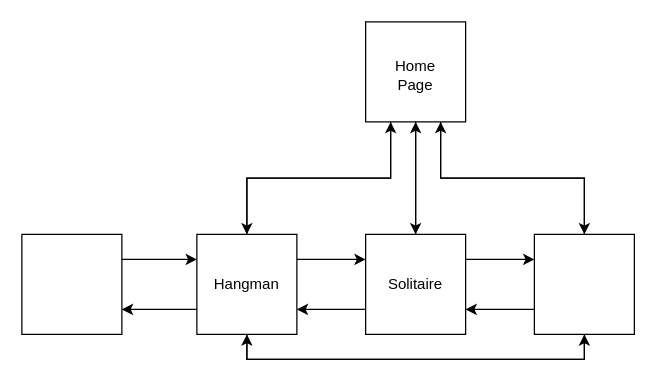
The diagram is 656 pixels wide and 391 high, and some of its shapes have lost their labels. The centre of each missing label's shape, as x and y in pixels:
"Definition" belongs at point (71, 283).
"Tic-Tac-Toe" belongs at point (583, 283).
